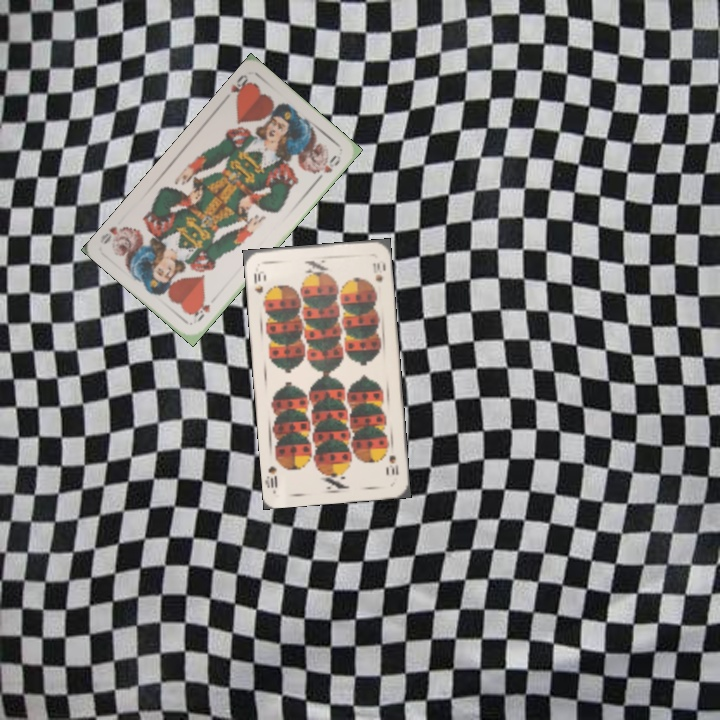HO: (226, 70, 255, 105), (189, 299, 213, 324)
S10: (249, 267, 268, 296), (384, 451, 401, 478)
